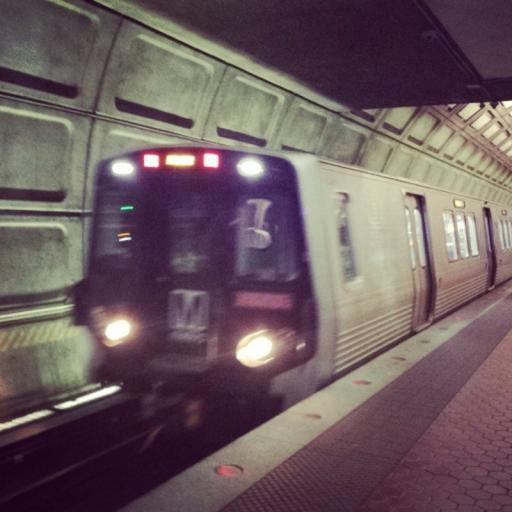platform_edge: (128, 284, 512, 509)
